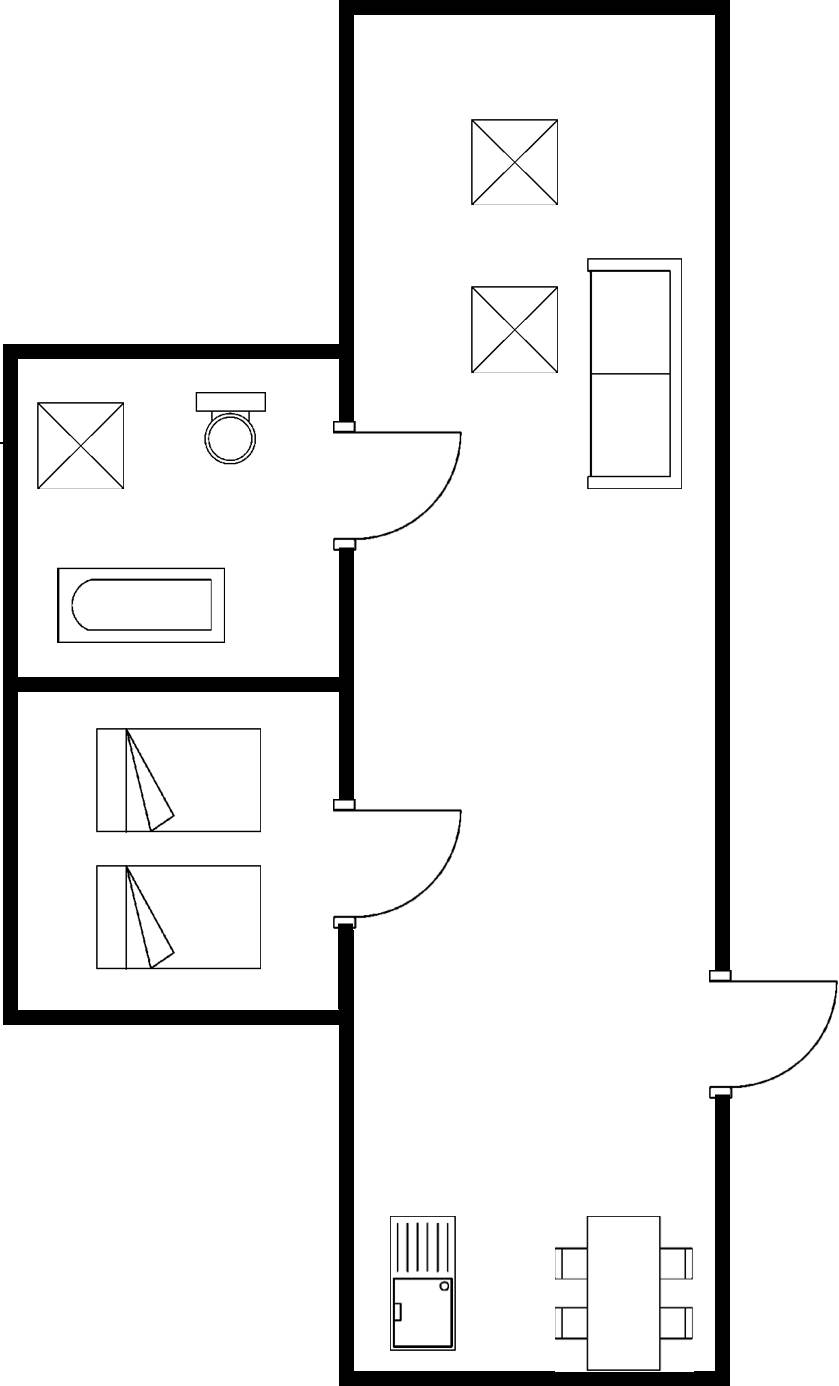bed: (87, 718, 271, 841), (86, 859, 271, 975)
coffee_table: (464, 110, 565, 214), (463, 279, 564, 377), (33, 399, 130, 494)
dining_table: (548, 1203, 699, 1380)
large_sink: (186, 381, 275, 467)
large_sofa: (582, 253, 690, 496)
sink: (383, 1210, 461, 1356)
tub: (49, 563, 236, 648)
